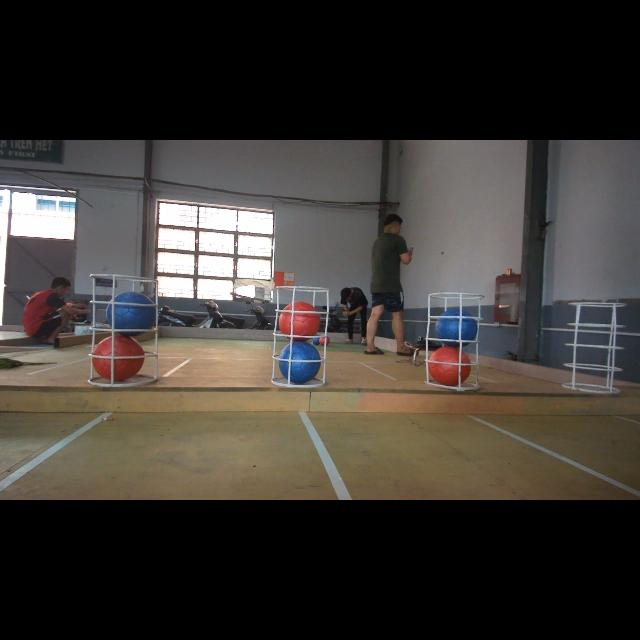B: (106, 291, 156, 335), (279, 343, 321, 385), (435, 310, 477, 346)
R: (94, 336, 148, 382), (278, 300, 320, 342), (429, 346, 471, 386)
